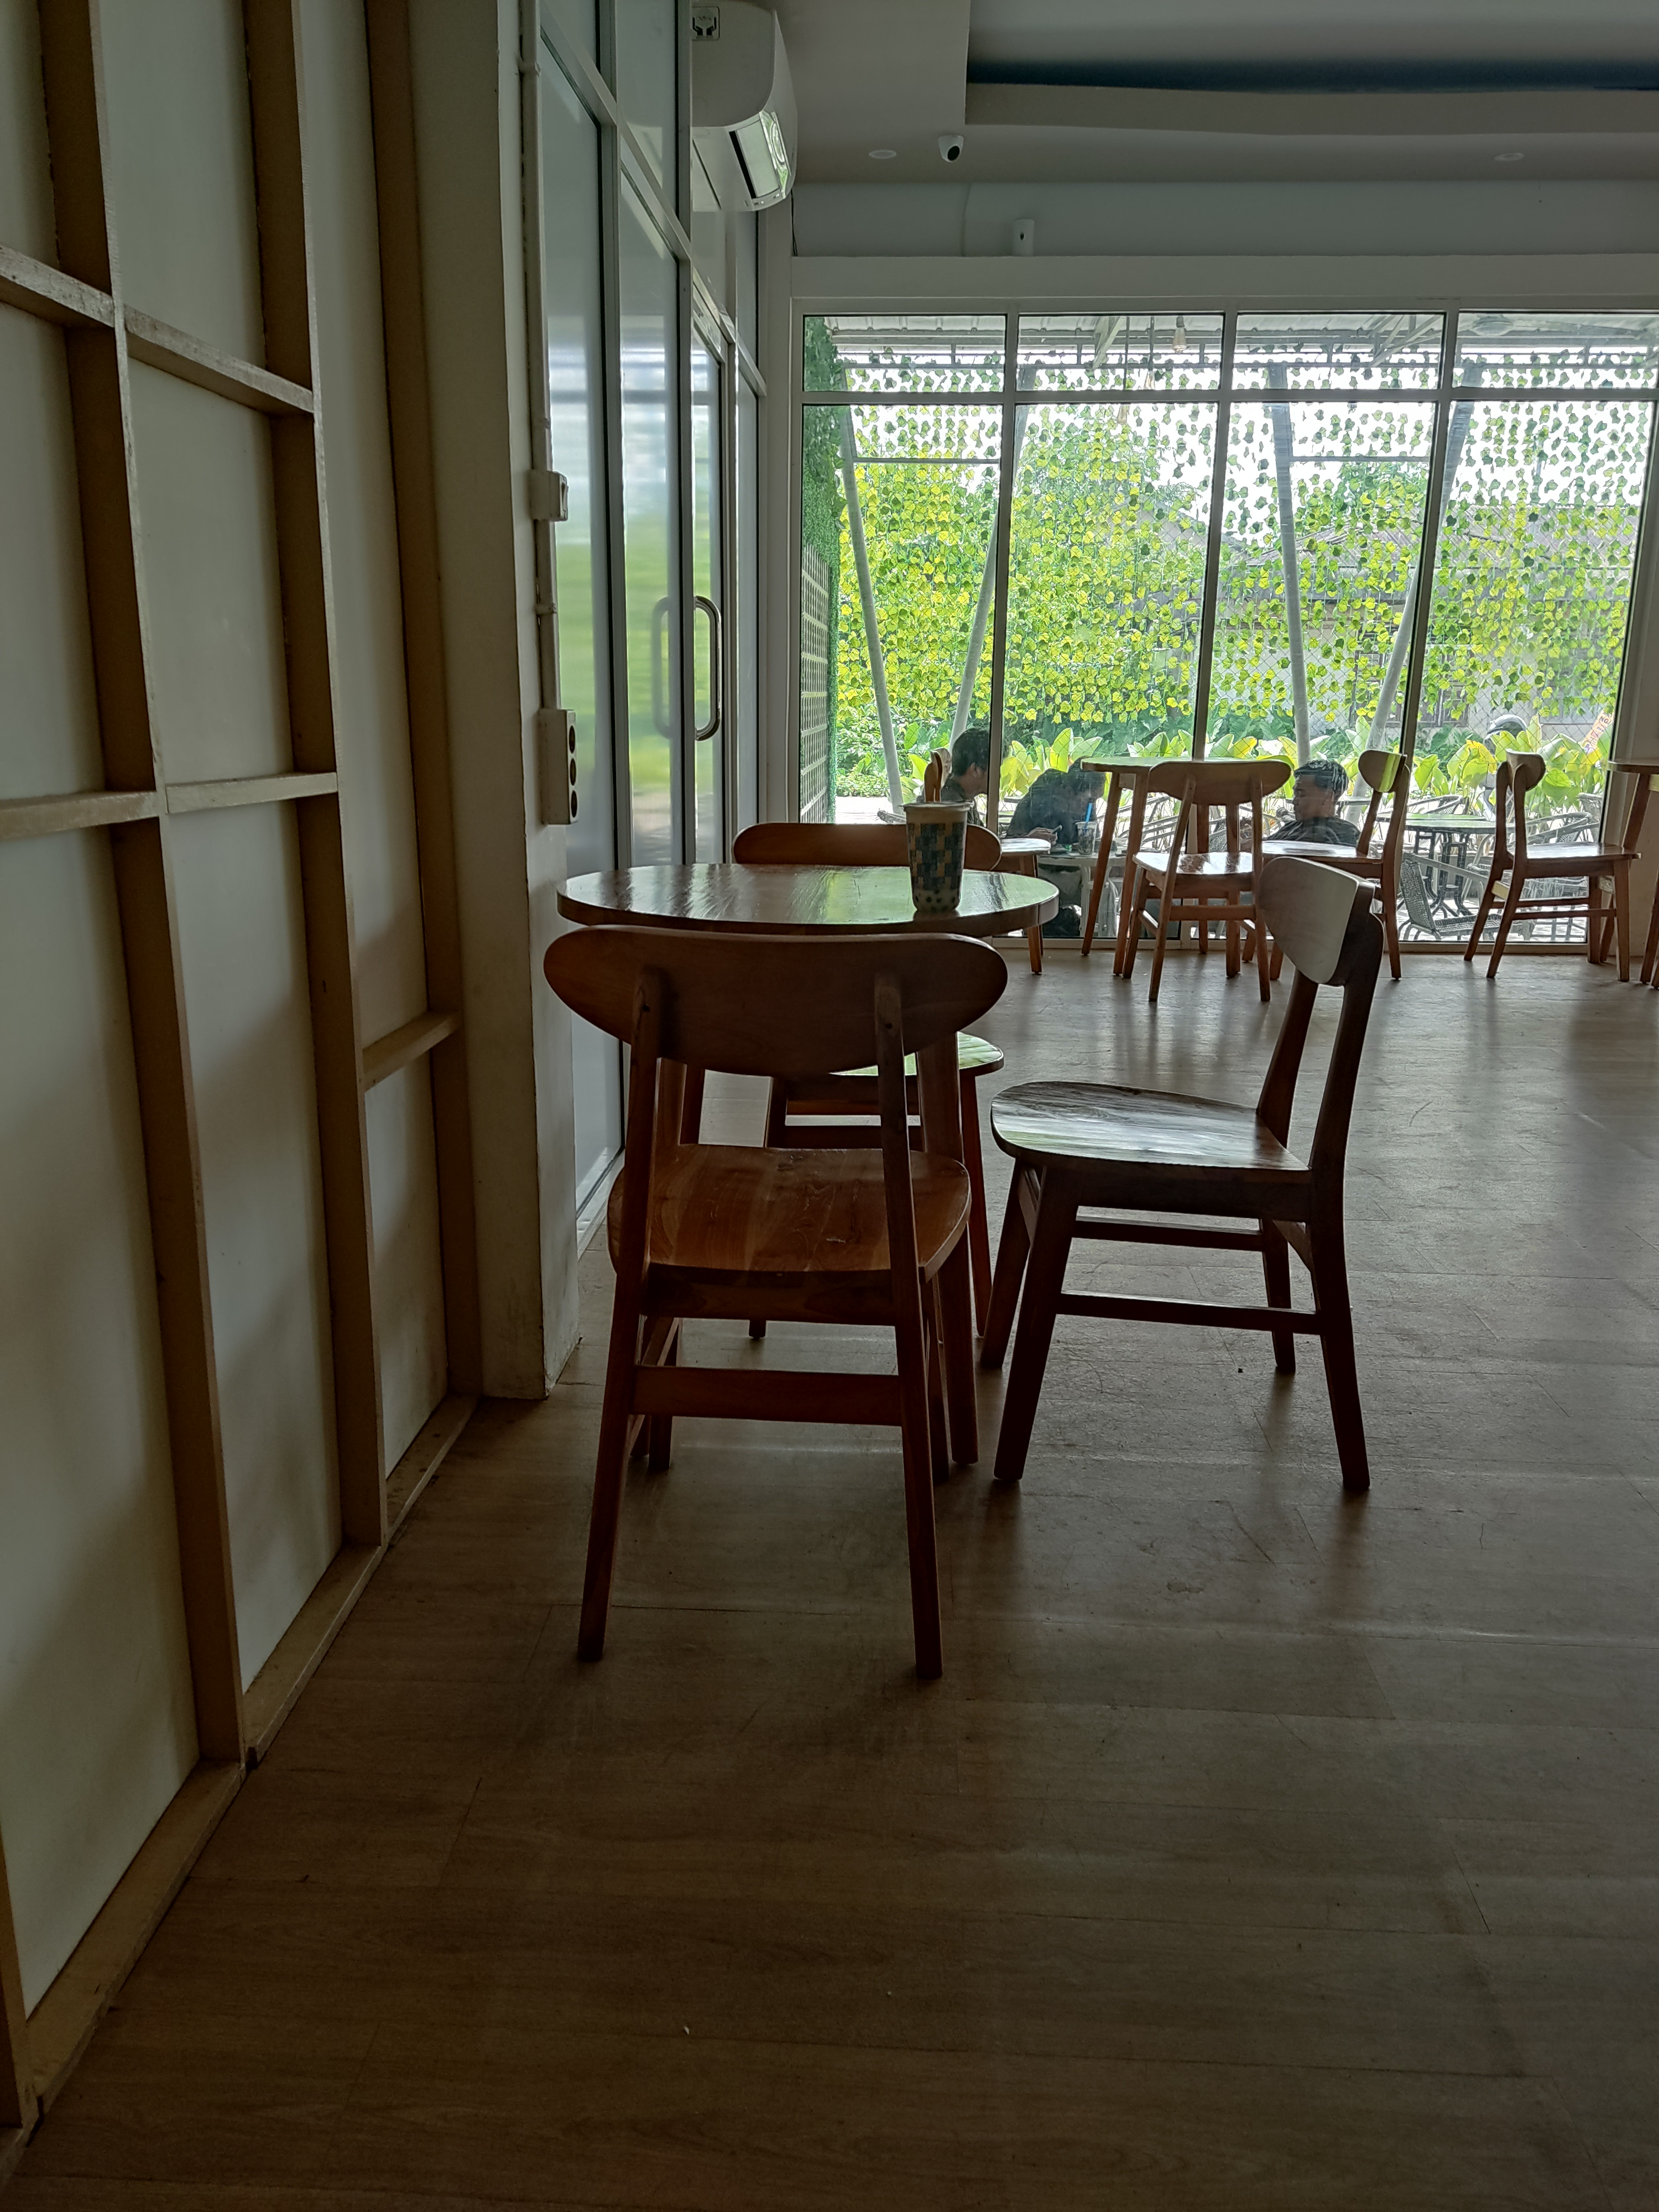Gelas CW: (901, 801, 971, 916)
